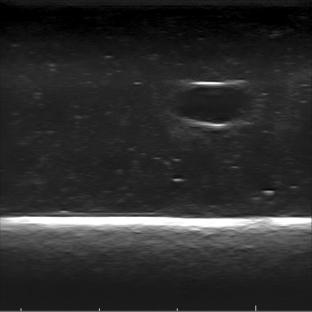vessel: (168, 80, 254, 130)
